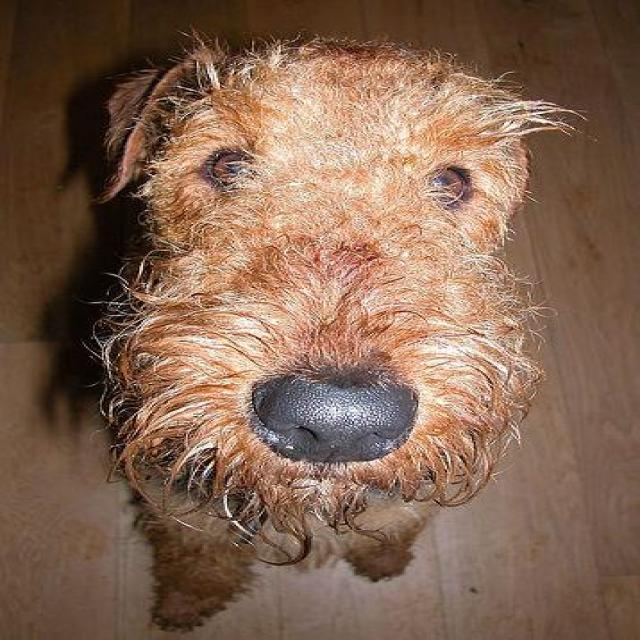airedale: (80, 34, 574, 628)
